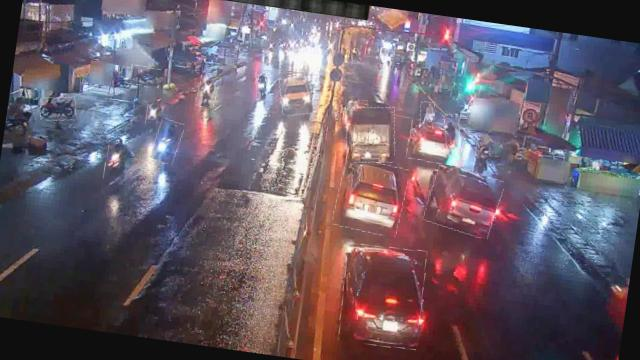Bike: (150, 118, 183, 165), (38, 94, 77, 124), (196, 71, 220, 108), (441, 112, 464, 150), (103, 144, 126, 182), (472, 135, 494, 174), (128, 64, 160, 88), (145, 102, 168, 126), (418, 101, 436, 128), (254, 74, 268, 100), (374, 134, 376, 134)
Car: (336, 241, 430, 350), (332, 156, 408, 236), (424, 163, 504, 237), (406, 119, 463, 166), (276, 74, 315, 118)
Truck: (341, 102, 399, 166)
